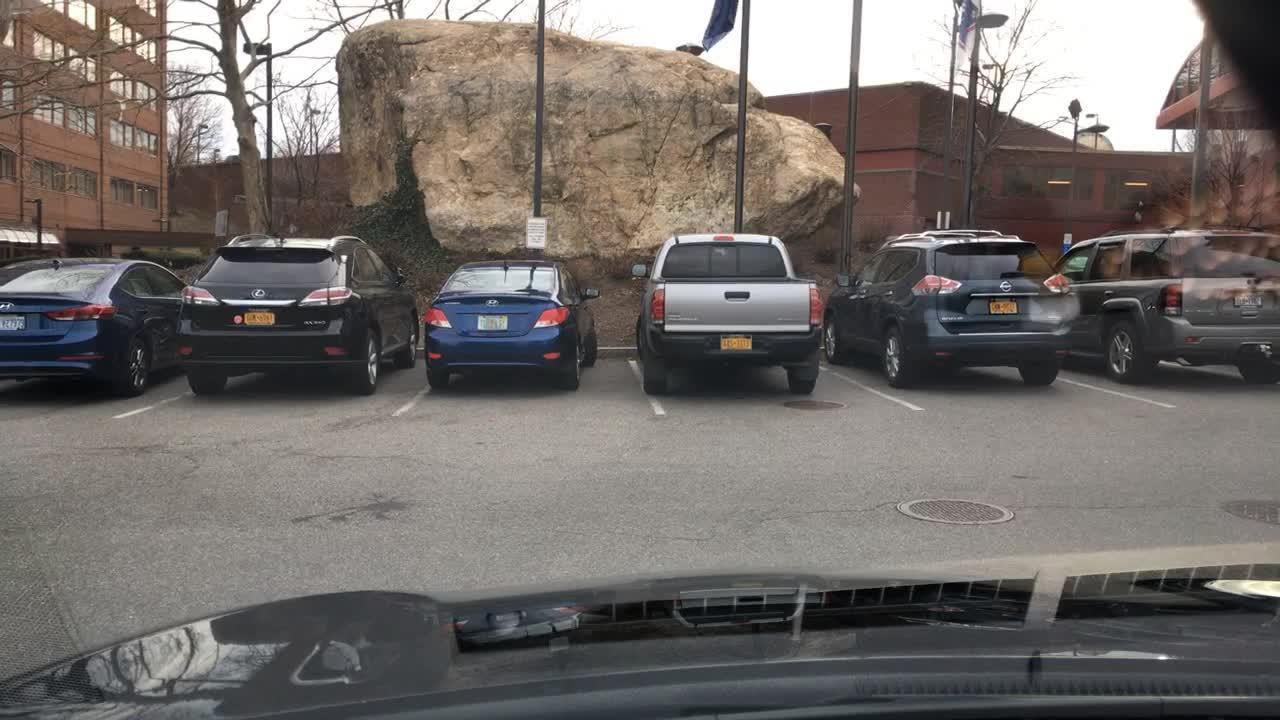Hyundai: (480, 294, 504, 316), (0, 297, 21, 319)
Nissan: (992, 279, 1017, 296)
lexus: (247, 288, 272, 300)
